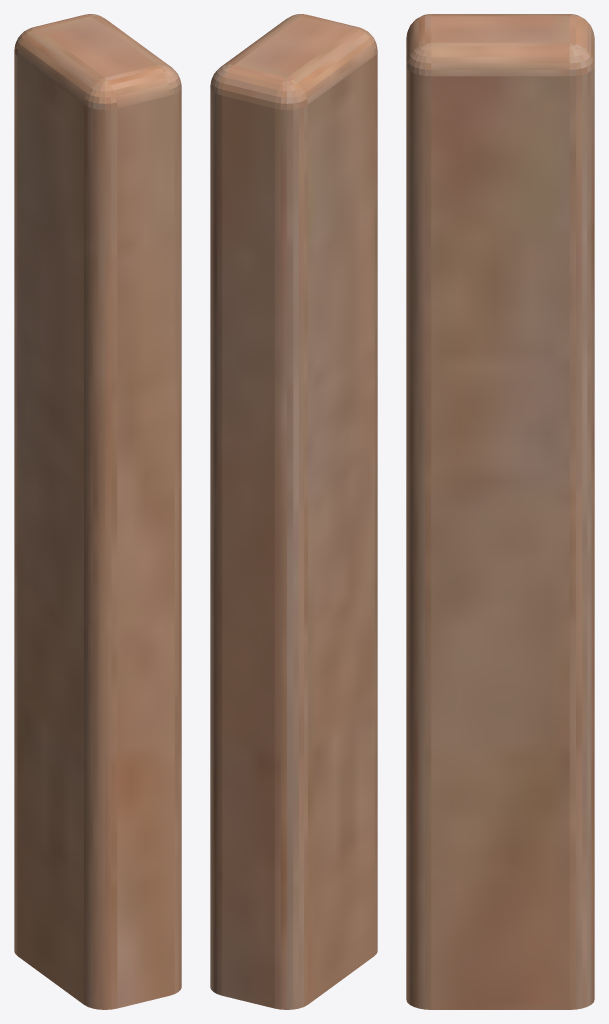
The model's file is original-2.obj.
3 renders of one model, left to right at view 1: azimuth 30°, elevation 25°; view 2: azimuth 150°, elevation 25°; view 3: azimuth 270°, elevation 25°, orthographic. The views are drawn at different scales.
Parts seen in each view (by area): view 1: mesh2/mesh2-geometry#mesh2-geometry; view 2: mesh2/mesh2-geometry#mesh2-geometry; view 3: mesh2/mesh2-geometry#mesh2-geometry.
Boxes of the visible parts, box(x1,y1,x2,y2) form: mesh2/mesh2-geometry#mesh2-geometry: box(14, 14, 181, 1009); mesh2/mesh2-geometry#mesh2-geometry: box(210, 14, 377, 1009); mesh2/mesh2-geometry#mesh2-geometry: box(406, 14, 594, 1009).
Bounding box in the file's own units: 0.1069 × 0.9976 × 0.1781.
